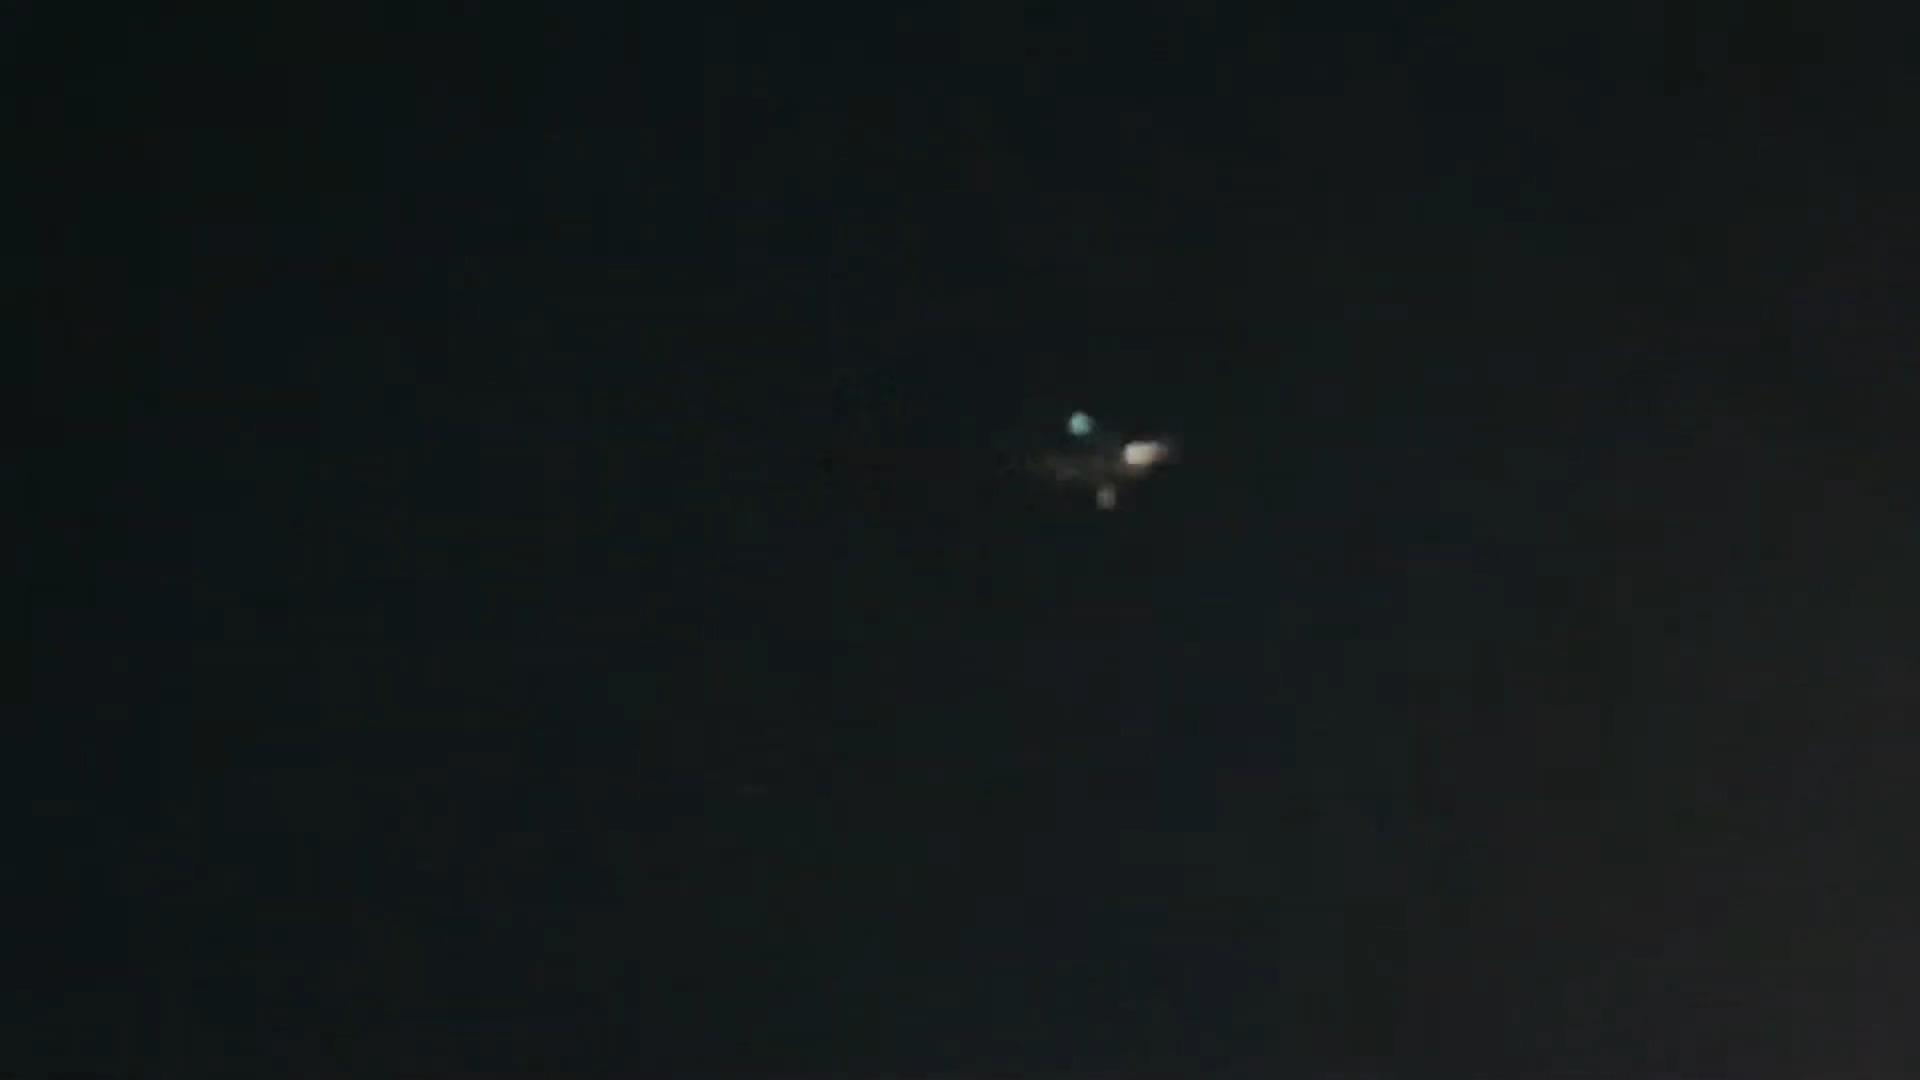Plane: (1002, 396, 1240, 535)
